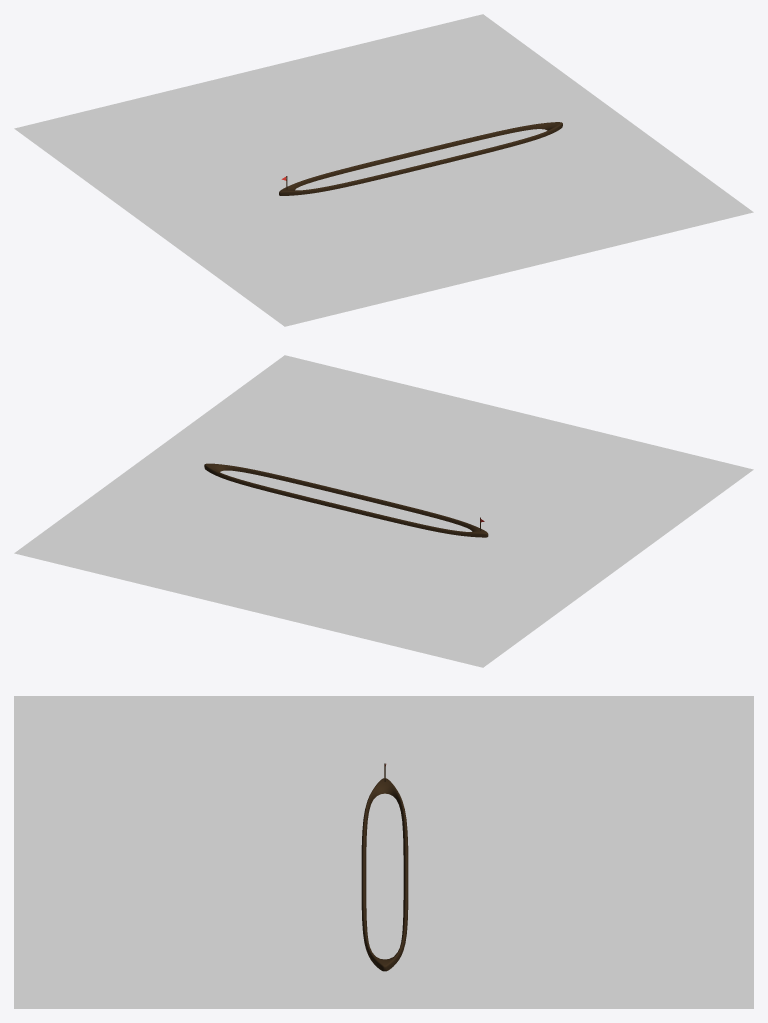
Rendered from pirogue3.gltf.
3 views of the same model, one above another, from view 1: azimuth 30°, elevation 25°; view 2: azimuth 150°, elevation 25°; view 3: azimuth 270°, elevation 25° (orthographic). The views are drawn at different scales.
Visible parts, largest first — view 1: Plane, Cube; view 2: Plane, Cube; view 3: Plane, Cube.
Boxes of the visible parts, x1,y1,x2,y2 form: Plane: (14, 14, 753, 326); Cube: (279, 122, 562, 195); Plane: (14, 355, 753, 667); Cube: (204, 463, 488, 537); Plane: (14, 696, 753, 1008); Cube: (361, 763, 408, 971).
Size of the model in its own units: 13.36 by 0.8512 by 13.36.
